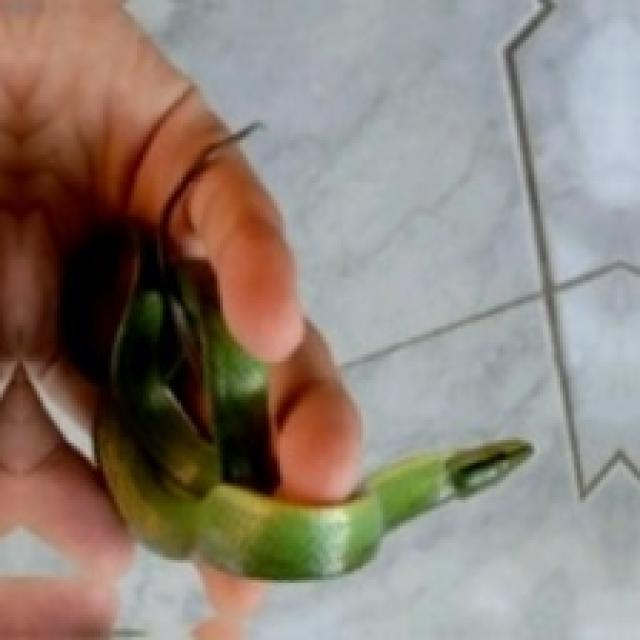red-tailed green ratsnake: (94, 229, 531, 577)
